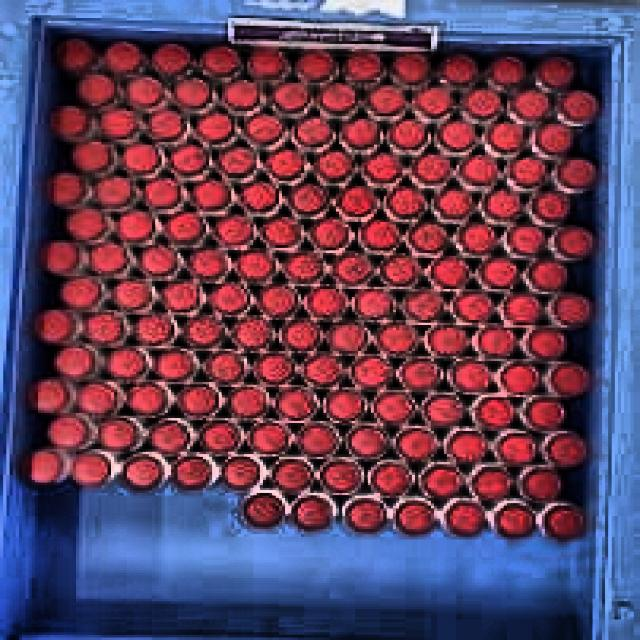vial: (340, 495, 387, 536), (365, 460, 414, 499), (16, 450, 66, 486), (217, 455, 263, 494), (191, 108, 237, 147), (68, 452, 113, 491), (420, 462, 465, 501), (119, 455, 165, 493), (443, 498, 487, 537), (169, 453, 213, 492), (259, 211, 303, 250), (268, 456, 313, 494), (337, 115, 384, 151), (147, 419, 192, 456), (176, 382, 221, 419), (395, 425, 441, 461), (239, 113, 286, 148), (242, 493, 286, 530), (534, 120, 578, 157), (503, 221, 548, 257), (94, 417, 140, 452), (45, 415, 91, 450), (290, 494, 332, 532), (52, 37, 94, 75), (303, 284, 346, 321), (494, 502, 538, 538), (371, 389, 415, 425), (315, 80, 360, 115), (521, 466, 563, 503), (130, 311, 172, 348), (134, 245, 181, 278), (51, 343, 94, 379), (82, 311, 127, 345), (247, 43, 288, 80), (544, 433, 586, 469), (495, 432, 537, 468), (200, 42, 242, 78), (410, 152, 452, 188), (446, 429, 489, 464), (292, 115, 335, 150), (255, 351, 299, 385), (104, 347, 148, 381), (484, 119, 528, 153), (246, 423, 291, 456), (398, 357, 443, 390), (307, 217, 352, 250), (347, 425, 389, 460), (126, 382, 168, 417), (152, 41, 194, 76), (75, 74, 117, 109), (529, 189, 571, 224), (26, 379, 68, 414), (221, 79, 264, 113), (149, 349, 196, 380), (377, 322, 421, 355), (361, 152, 405, 185), (506, 156, 550, 189), (213, 214, 257, 247), (34, 310, 74, 346), (280, 317, 320, 353), (109, 278, 154, 310), (57, 279, 102, 311), (272, 80, 312, 116), (163, 212, 208, 244), (543, 504, 584, 539), (190, 178, 231, 213), (144, 109, 186, 143), (557, 157, 599, 191), (551, 292, 593, 326), (349, 356, 392, 389), (313, 150, 356, 183), (320, 460, 360, 495), (256, 283, 296, 318), (387, 185, 427, 220), (560, 88, 600, 123), (71, 139, 111, 174), (142, 176, 182, 211), (226, 385, 267, 419), (209, 281, 250, 315), (103, 41, 144, 75), (343, 50, 384, 84), (481, 188, 522, 222), (38, 240, 79, 274), (76, 383, 118, 416), (435, 119, 477, 152), (188, 246, 230, 279), (43, 173, 85, 206), (199, 422, 242, 454), (422, 394, 465, 426), (166, 143, 209, 175), (436, 184, 473, 221), (396, 499, 434, 535), (472, 467, 511, 502), (216, 147, 260, 178), (324, 388, 364, 422), (336, 184, 376, 218), (537, 53, 577, 87), (89, 242, 129, 276), (298, 425, 339, 458), (182, 315, 223, 348), (99, 107, 140, 140), (289, 183, 330, 216), (159, 281, 201, 313), (552, 226, 594, 258), (120, 142, 162, 174), (65, 208, 107, 240), (362, 216, 399, 252), (206, 350, 245, 384), (49, 105, 88, 139), (266, 148, 305, 182), (366, 83, 405, 117), (239, 179, 278, 213), (429, 256, 468, 290), (305, 353, 345, 386), (354, 288, 394, 321), (296, 47, 336, 80), (459, 155, 499, 188), (389, 117, 429, 150), (512, 87, 552, 120), (480, 256, 520, 289), (172, 78, 213, 110), (456, 222, 497, 254), (237, 249, 278, 281), (274, 389, 316, 420), (408, 222, 448, 254), (412, 85, 452, 117), (284, 252, 325, 283), (232, 318, 271, 350), (126, 77, 165, 109), (488, 56, 527, 88), (477, 327, 516, 359), (405, 290, 444, 322), (500, 294, 540, 325), (472, 398, 513, 428), (426, 326, 467, 356), (528, 259, 565, 292), (328, 321, 366, 353), (526, 399, 565, 430), (498, 364, 537, 395), (463, 88, 500, 120), (95, 176, 133, 207), (549, 365, 586, 396), (453, 360, 488, 392), (526, 328, 561, 360), (440, 54, 476, 85), (333, 254, 369, 285), (454, 292, 491, 322), (118, 212, 152, 243), (392, 54, 427, 84), (381, 257, 414, 285)
